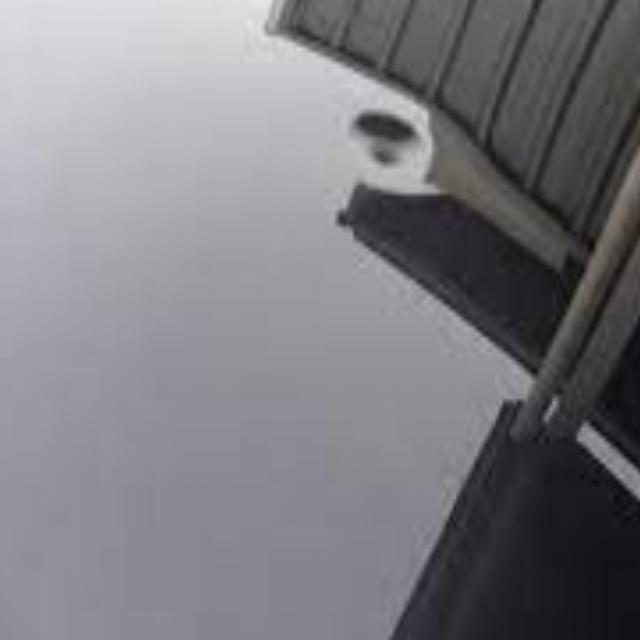dents: (340, 87, 446, 180)
